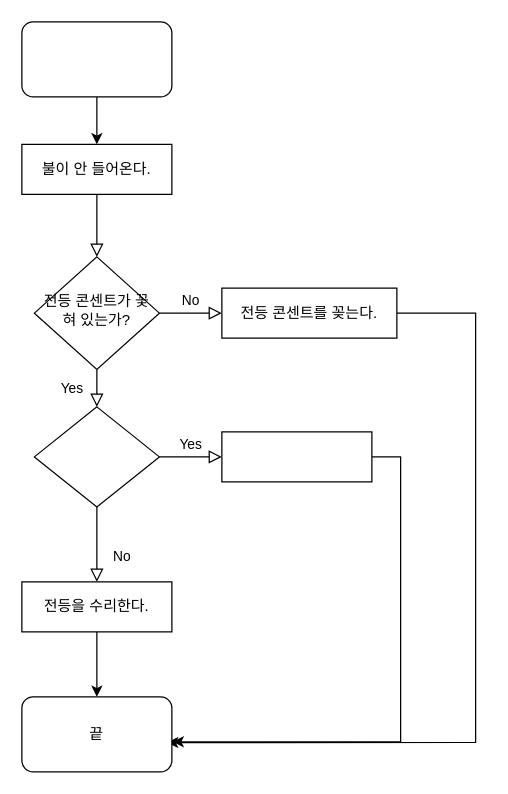
Image size: 508x794. Some labels were removed from this diagram. The centre of each missing label's shape, as x and y in pixels:
시작: [96,59]
전구 수명이 다했는가?: [96,456]
전구를 교체한다: [296,456]
